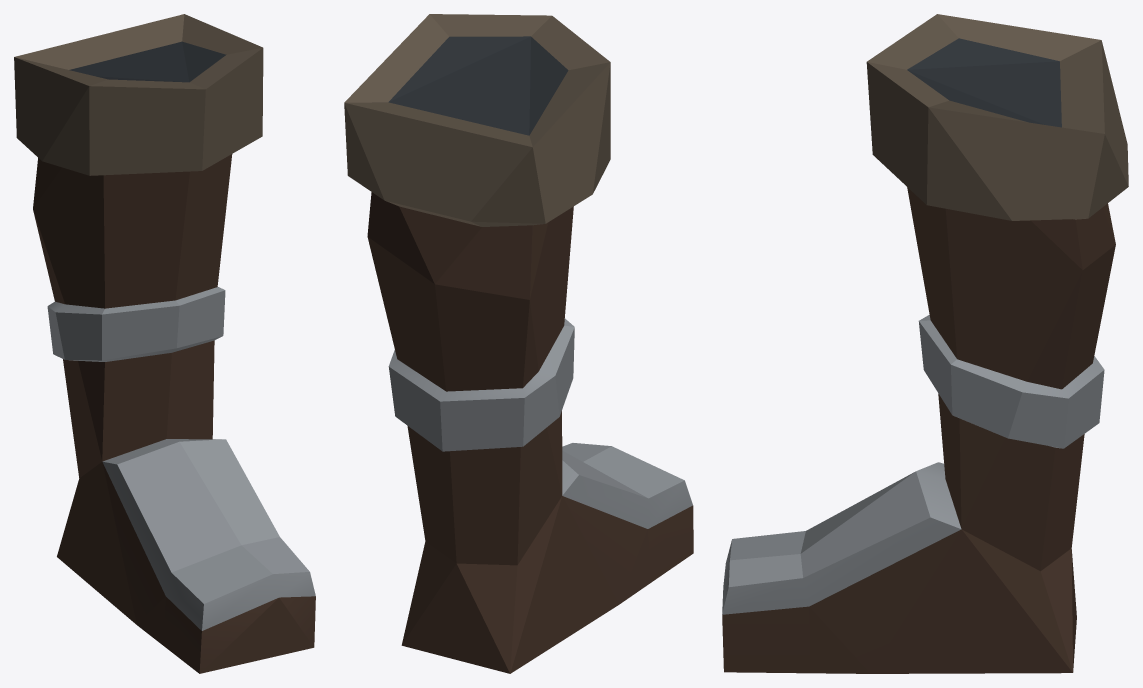
The model's file is Chr_LegLeft_Male_18_Static.fbx.
3 views of the same model, side by side, from view 1: azimuth 30°, elevation 25°; view 2: azimuth 150°, elevation 25°; view 3: azimuth 270°, elevation 25° (orthographic). The views are drawn at different scales.
Parts seen in each view (by area): view 1: Chr_LegLeft_Male_18_Static; view 2: Chr_LegLeft_Male_18_Static; view 3: Chr_LegLeft_Male_18_Static.
Part boxes in pixels (bbox=[...]): Chr_LegLeft_Male_18_Static: bbox=[14, 14, 315, 673]; Chr_LegLeft_Male_18_Static: bbox=[344, 14, 693, 673]; Chr_LegLeft_Male_18_Static: bbox=[722, 14, 1128, 673].
Bounding box in the file's own units: 0.1645 × 0.4099 × 0.2573.
